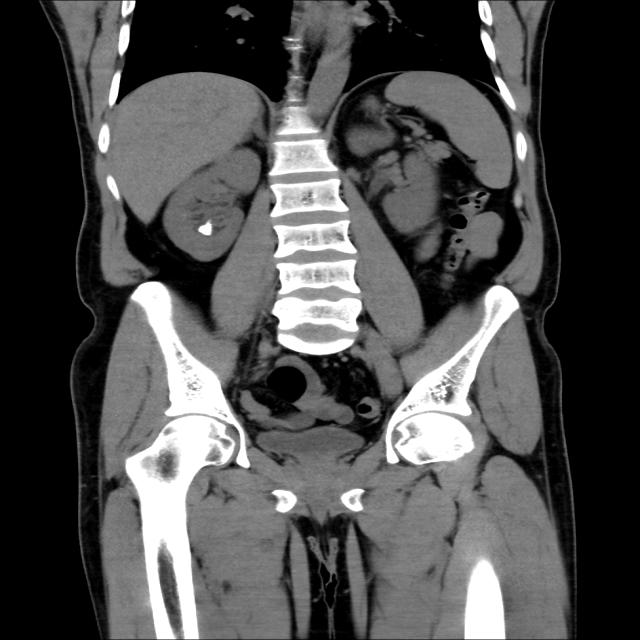kidneystone: (198, 222, 213, 236)
